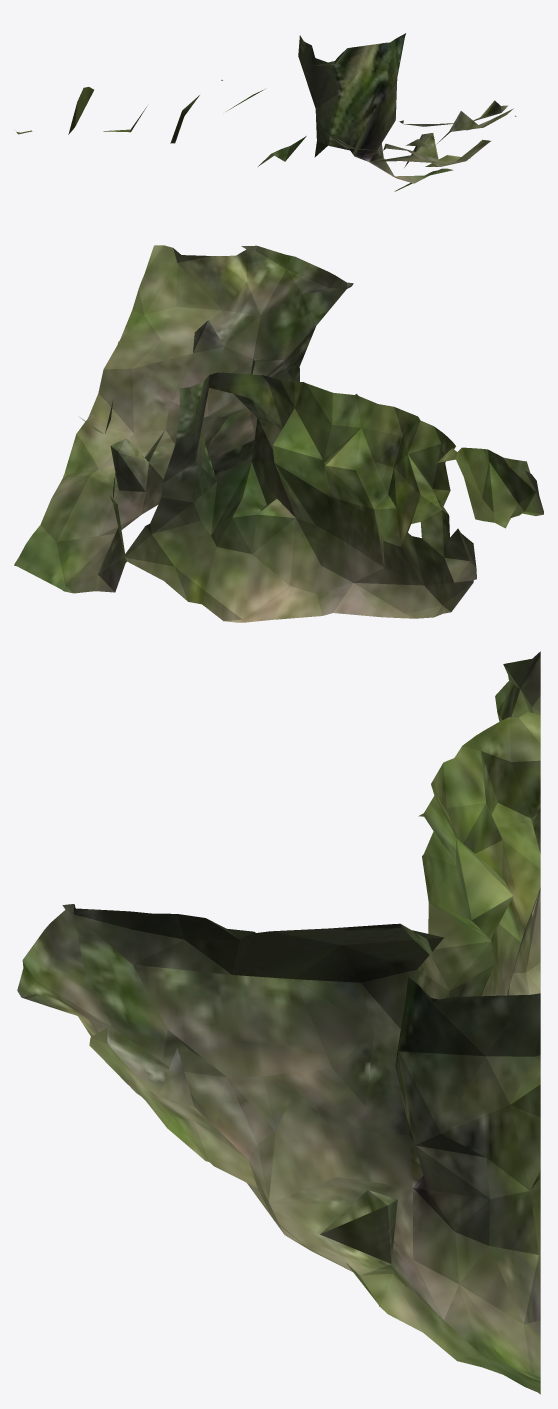
3 renders of one model, top to bottom at view 1: azimuth 30°, elevation 25°; view 2: azimuth 150°, elevation 25°; view 3: azimuth 270°, elevation 25°, orthographic. The views are drawn at different scales.
Bounding box in the file's own units: 16.76 × 6.99 × 9.07.
Materials: 1 (1 with a texture image).
